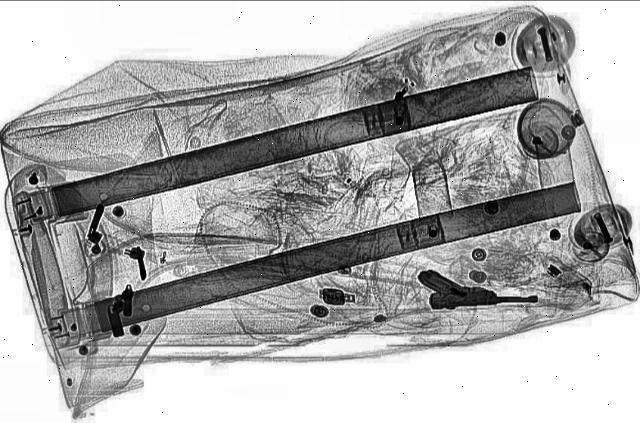Gun: (418, 268, 540, 310)
